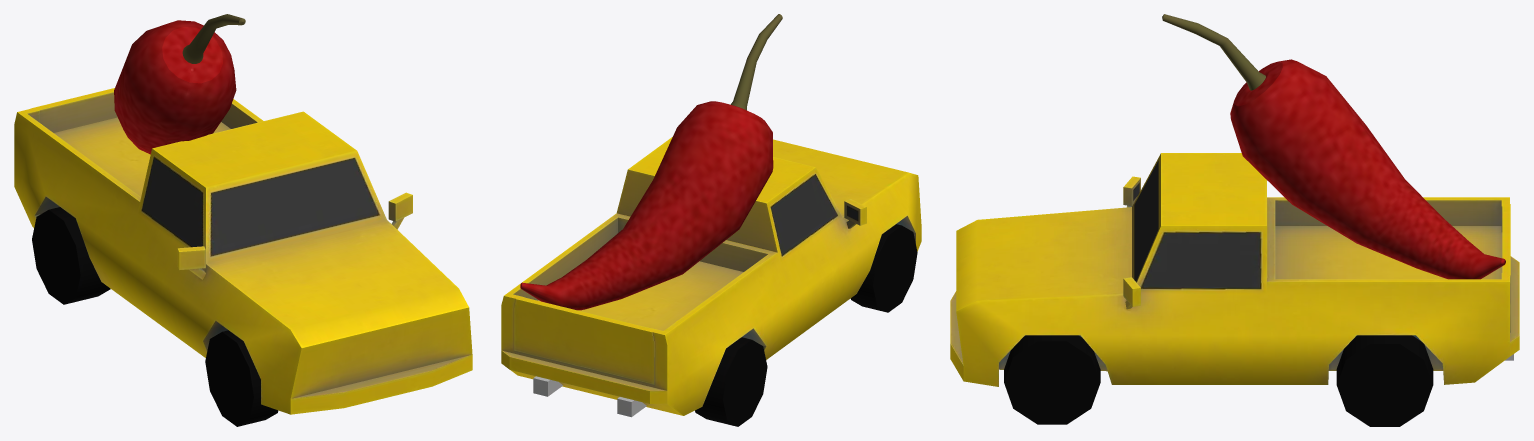
File: Gadi03-transformed.glb
3 renders of one model, left to right at view 1: azimuth 30°, elevation 25°; view 2: azimuth 150°, elevation 25°; view 3: azimuth 270°, elevation 25°, orthographic. The views are drawn at different scales.
Visible parts, largest first — view 1: GADI_04; view 2: GADI_04; view 3: GADI_04.
Part boxes in pixels (x1,y1,x2,y2): GADI_04: (14,14,472,426); GADI_04: (501,14,921,426); GADI_04: (950,14,1519,426).
Size of the model in its own units: 1.12 by 1.58 by 2.39.
1 material, 1 textured.
